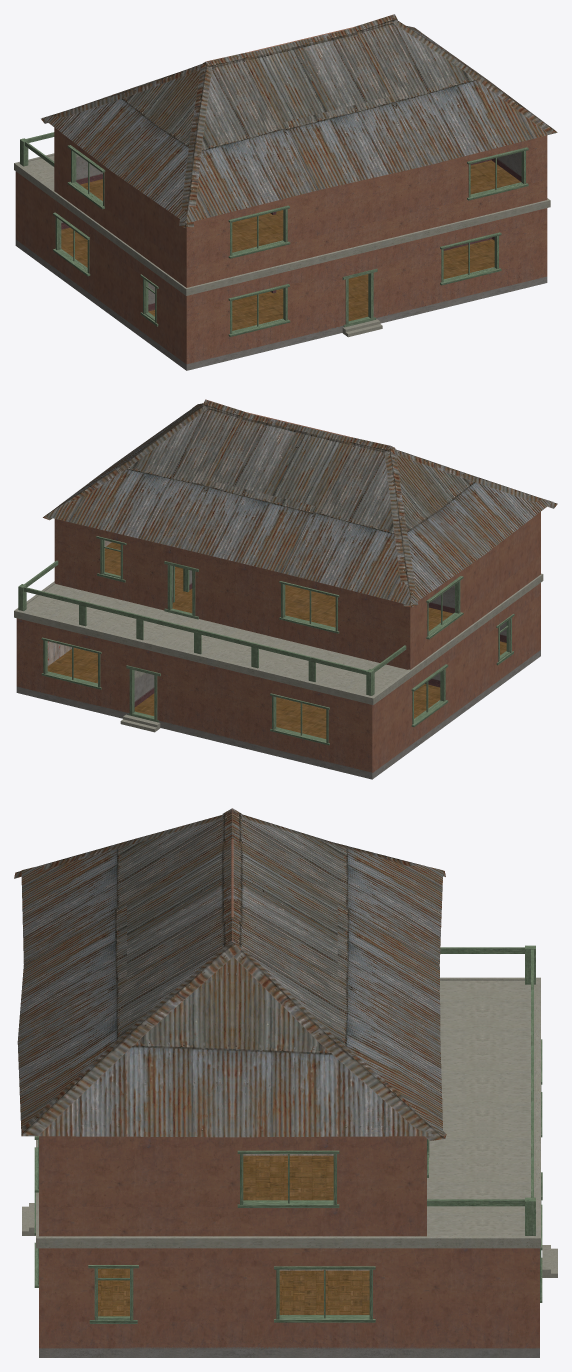
The model's file is BuildingLarge2c012048_lod1.glb.
3 views of the same model, one above another, from view 1: azimuth 30°, elevation 25°; view 2: azimuth 150°, elevation 25°; view 3: azimuth 270°, elevation 25° (orthographic). The views are drawn at different scales.
Parts seen in each view (by area): view 1: xiutz_building_large_2c_01_2_lod1; view 2: xiutz_building_large_2c_01_2_lod1; view 3: xiutz_building_large_2c_01_2_lod1.
Part boxes in pixels (x1,y1,x2,y2): xiutz_building_large_2c_01_2_lod1: [14, 14, 557, 370]; xiutz_building_large_2c_01_2_lod1: [14, 399, 557, 779]; xiutz_building_large_2c_01_2_lod1: [14, 808, 557, 1357].
Size of the model in its own units: 25.18 by 15.38 by 21.41.
1 material, 1 textured.
